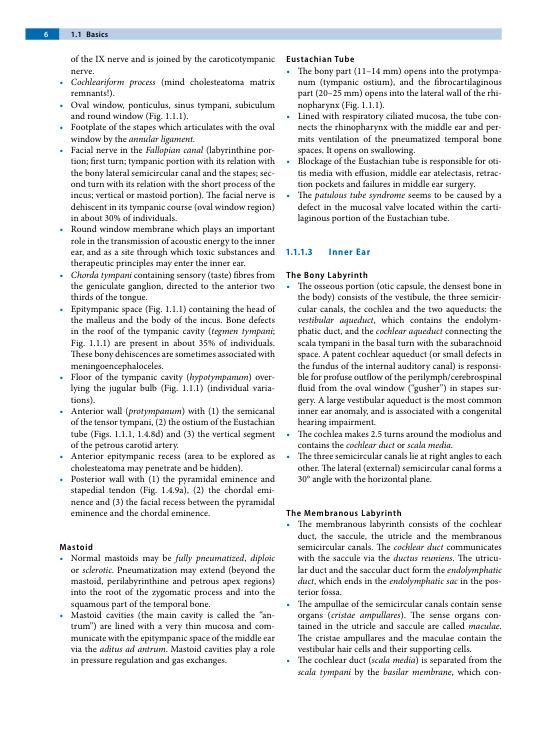header: (70, 30, 109, 38)
list: (58, 53, 276, 517), (285, 281, 503, 486), (285, 519, 503, 679), (285, 65, 503, 224), (58, 553, 276, 667)
sub-section-heading: (285, 508, 402, 518), (285, 270, 369, 281), (285, 55, 355, 63), (328, 247, 371, 256), (58, 542, 94, 552)
